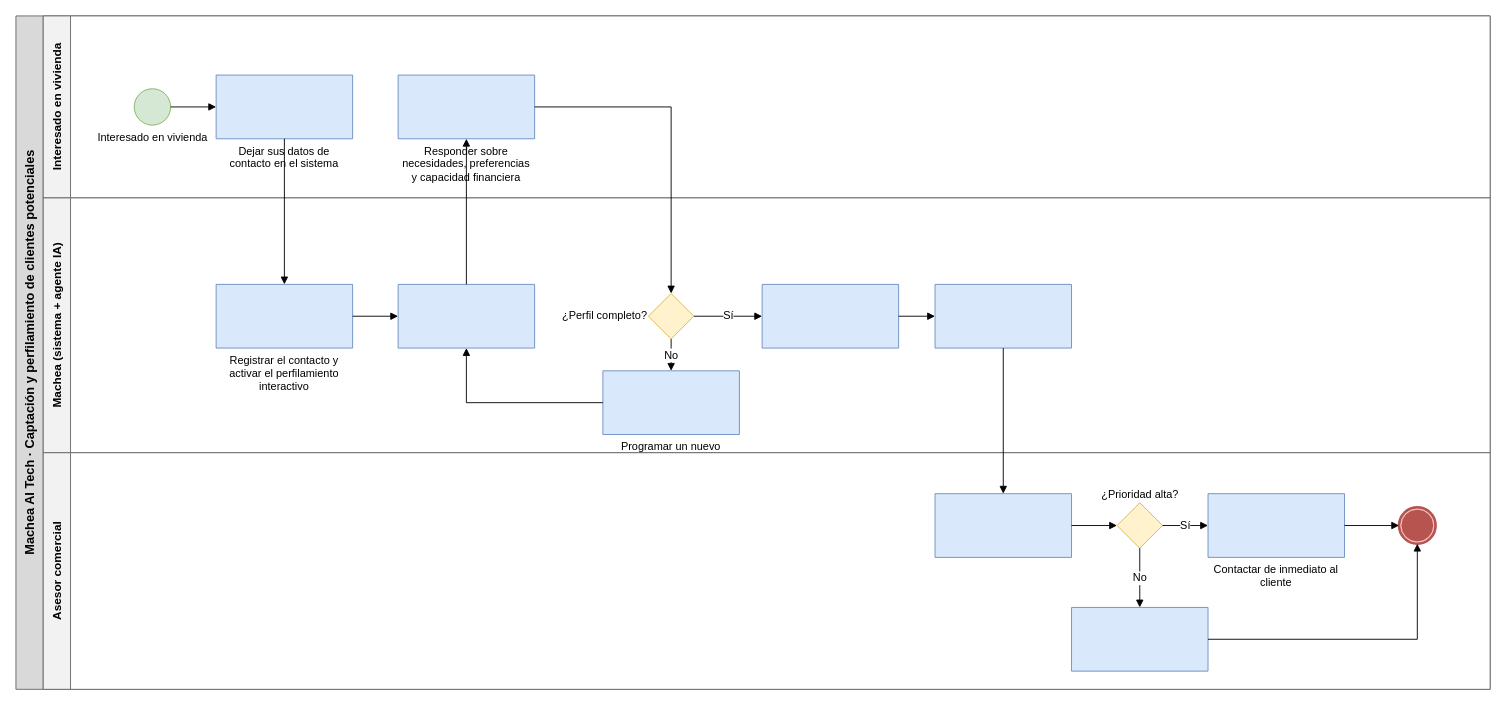
This 1506x720 diagram has some shape labels left out. Here are the shapes that lost their labels. From the top down, the centre of each, then its label:
the point at 466,315: Agente de voz con IA contacta al interesado de inmediato
the point at 830,315: Calificar y priorizar al cliente según su potencial financiero
the point at 1003,315: Generar la ficha del cliente con su perfil y prioridad
the point at 1003,525: Recibir la ficha del cliente priorizado
the point at 1417,525: Cliente atendido
the point at 1139,639: Dar seguimiento programado al cliente
